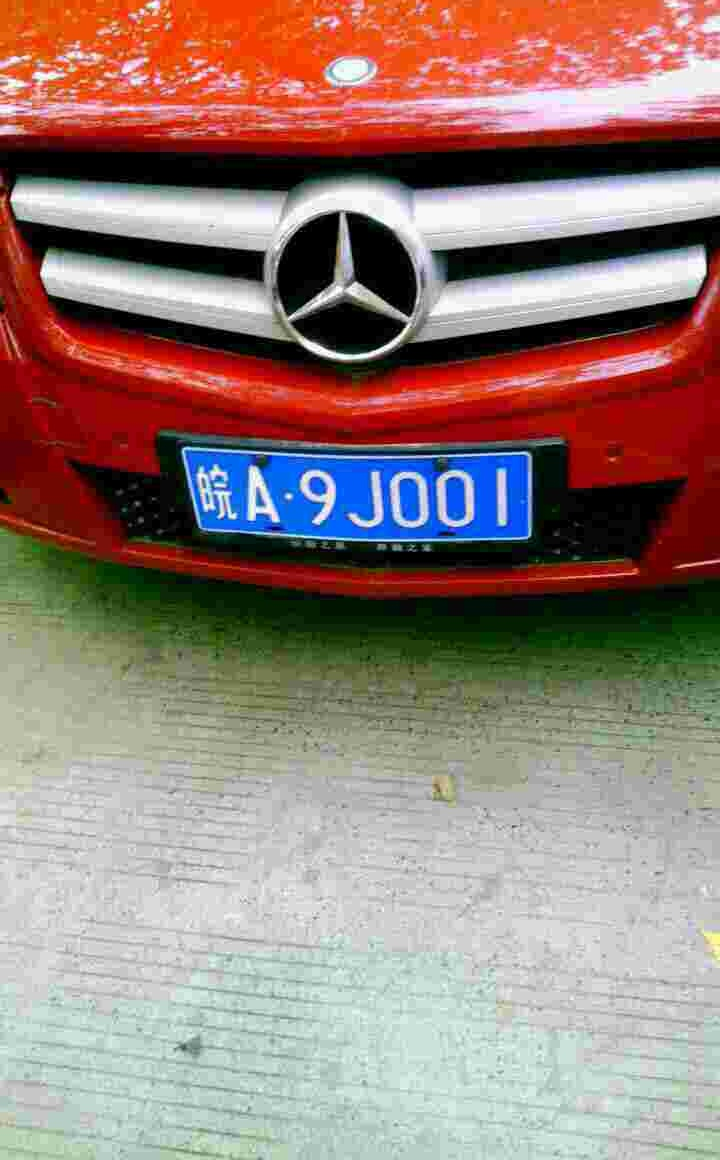license_plate: (190, 445, 540, 545)
